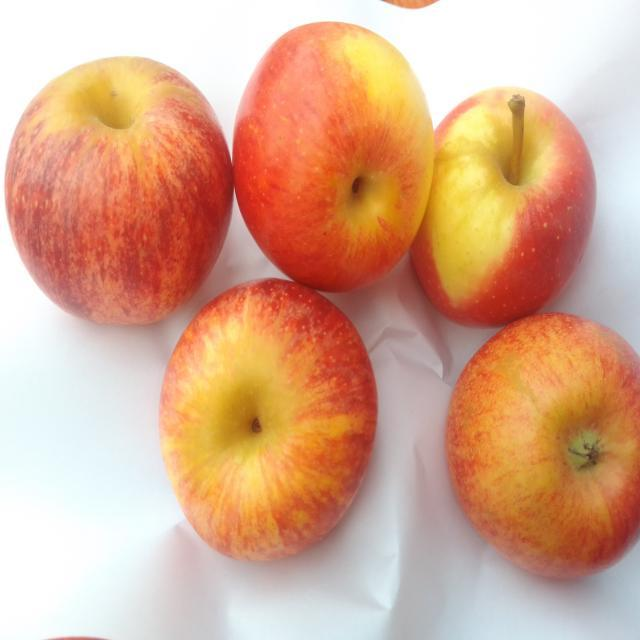Fresh Apple: (8, 62, 230, 313), (228, 25, 440, 278), (170, 295, 387, 538), (455, 324, 640, 578), (412, 95, 588, 323)
